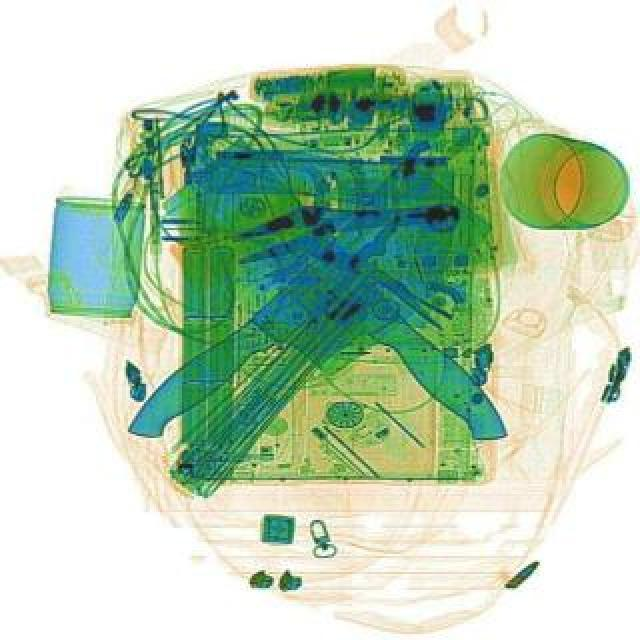knife: (112, 148, 502, 504), (270, 208, 514, 456)
